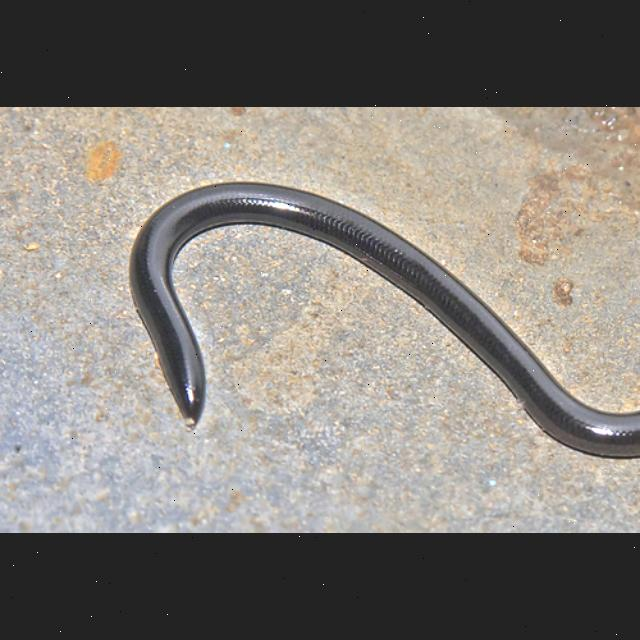snake: (106, 172, 640, 464)
